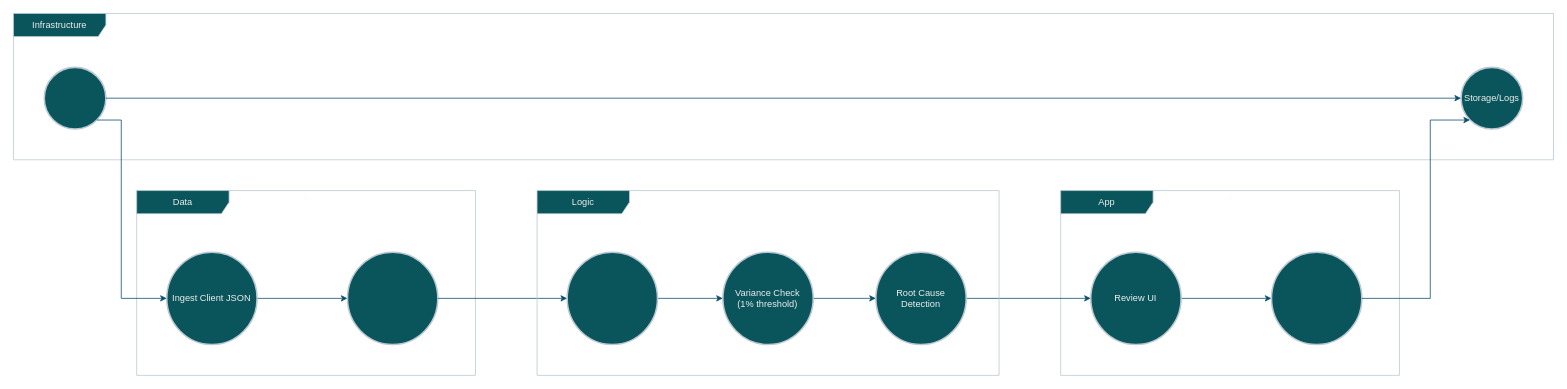
This 1567x389 diagram has some shape labels left out. Here are the shapes that lost their labels. From the top down, the centre of each, then its label:
At (x=74, y=97): "Scheduler".
At (x=392, y=298): "Normalize Ledger Data".
At (x=612, y=298): "Match & Score Jobs".
At (x=1316, y=298): "Reports / KPIs".
